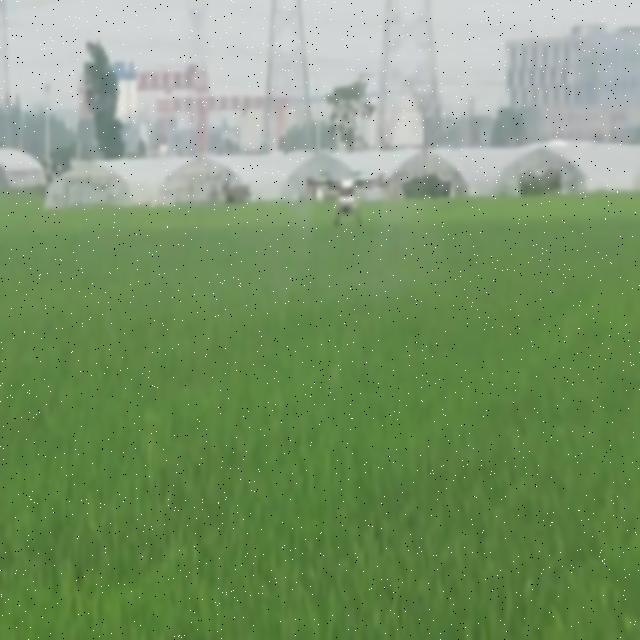UAV: (306, 171, 392, 229)
